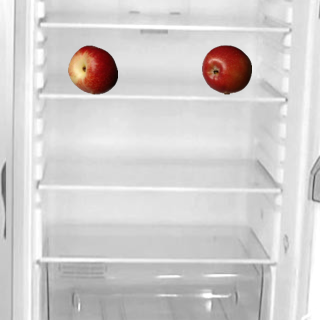Apple Braeburn: (201, 44, 251, 94)
Nectarine: (67, 44, 117, 94)
